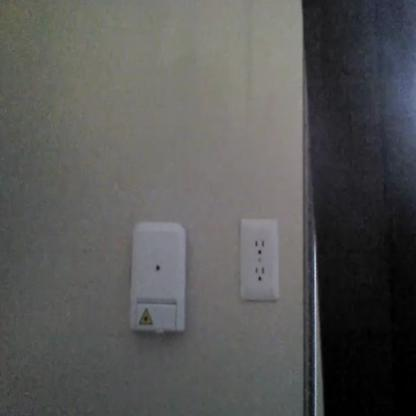OUTLET: (239, 218, 280, 301)
